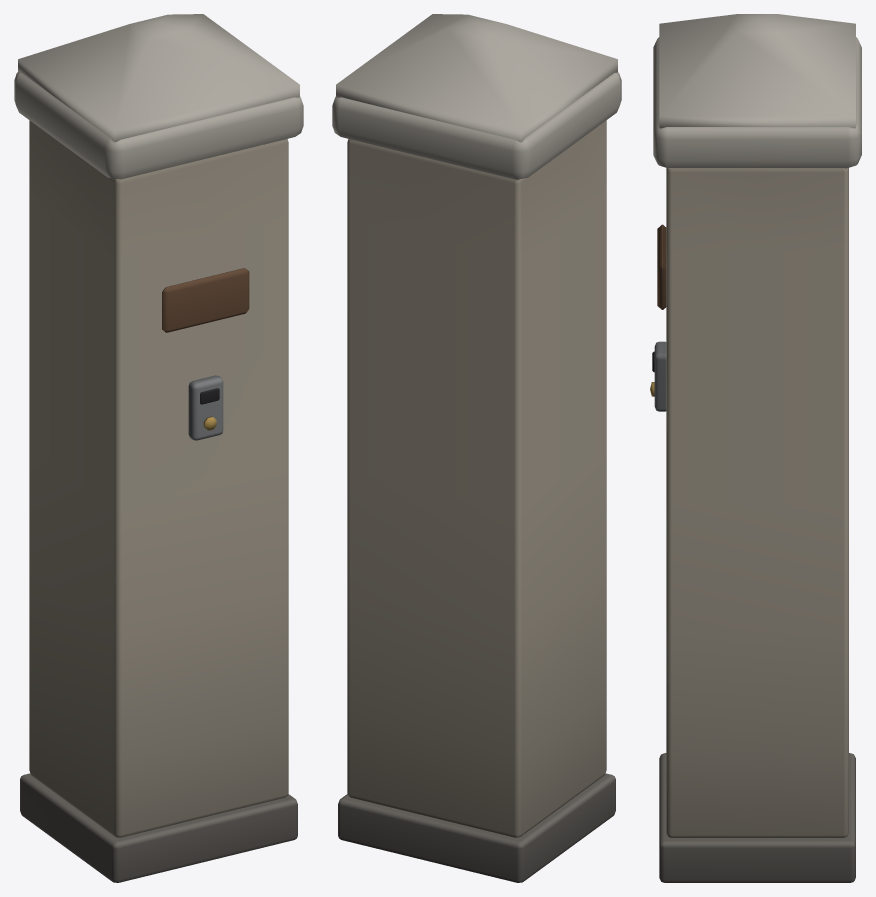
The model's file is WallPillar.fbx.
3 views of the same model, side by side, from view 1: azimuth 30°, elevation 25°; view 2: azimuth 150°, elevation 25°; view 3: azimuth 270°, elevation 25° (orthographic).
Visible parts, largest first — view 1: WallPillar; view 2: WallPillar; view 3: WallPillar.
Part boxes in pixels (box(x1,y1,x2,y2)): WallPillar: box(14, 14, 303, 882); WallPillar: box(332, 14, 621, 882); WallPillar: box(650, 14, 861, 882).
Size of the model in its own units: 0.5 by 1.95 by 0.457.
